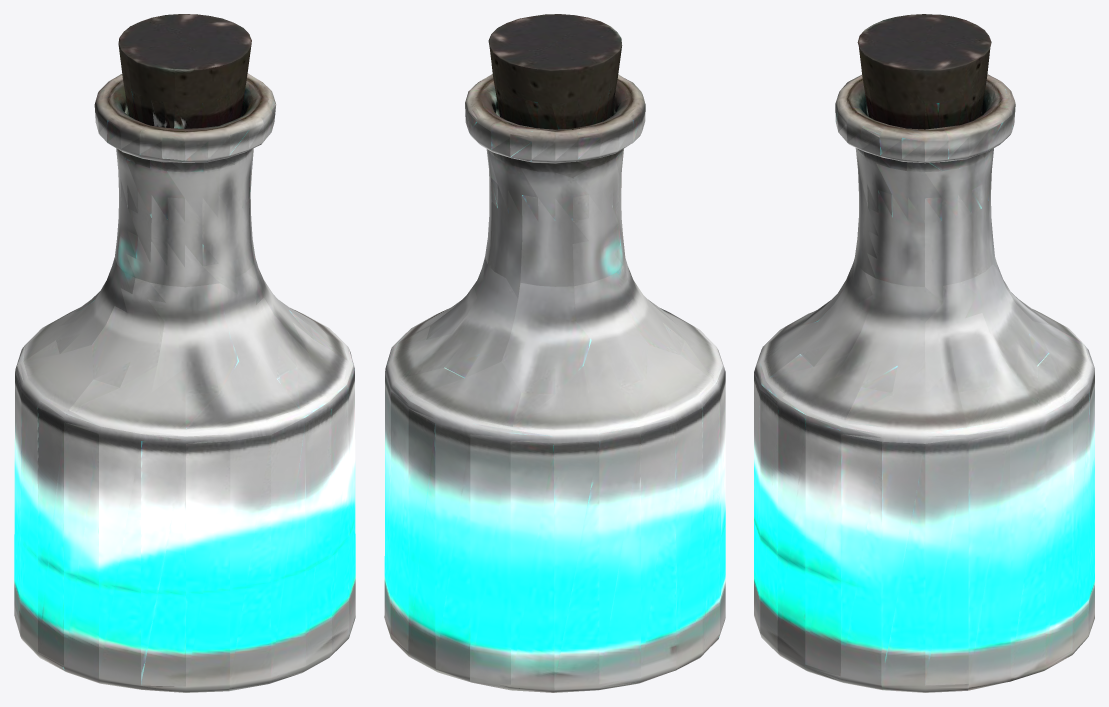
File: sediment.glb
3 renders of one model, left to right at view 1: azimuth 30°, elevation 25°; view 2: azimuth 150°, elevation 25°; view 3: azimuth 270°, elevation 25°, orthographic.
Bounding box in the file's own units: 0.5352 × 1 × 0.5332.
1 material, 1 textured.
